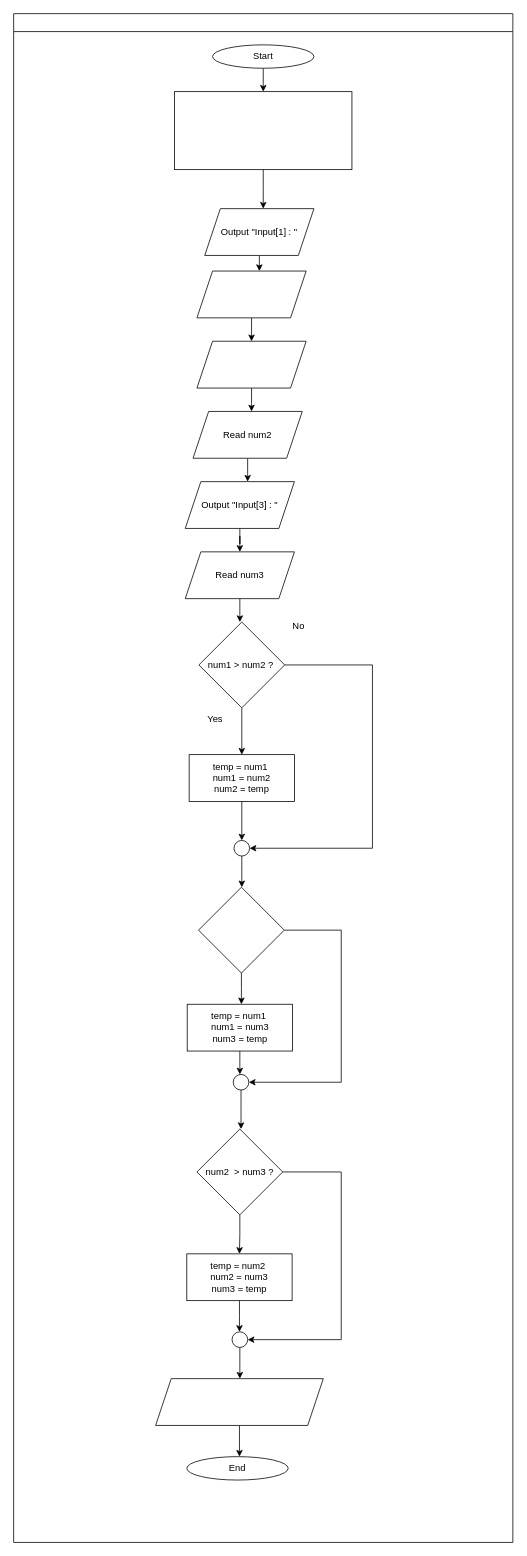
Image size: 527x1556. Some labels were removed from this diagram. The shapes that lost their labels are listed below. From the top down, each one's centre as x and y in pixels, then its label:
the point at 263,130: Declare num1, num2, num3,temp
the point at 251,294: Read num1
the point at 251,364: Output "Input[2] : "
the point at 241,929: num1 > num3 ?
the point at 239,1401: Output num1 num2 num3
